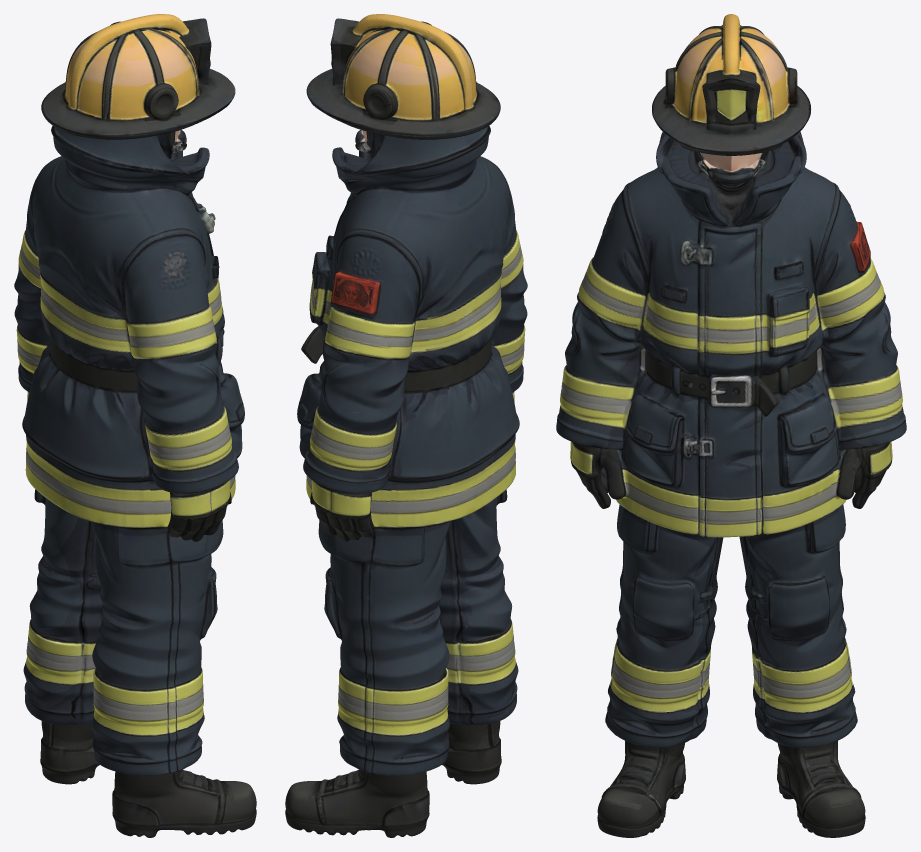
The model's file is firefighter+3d+model.glb.
The picture shows the model from 3 angles, left to right: view 1: azimuth 30°, elevation 25°; view 2: azimuth 150°, elevation 25°; view 3: azimuth 270°, elevation 25°; orthographic projection.
Visible parts, largest first — view 1: tripo_node_90aba189-baeb-4f53-9ea8-ca6c51652766; view 2: tripo_node_90aba189-baeb-4f53-9ea8-ca6c51652766; view 3: tripo_node_90aba189-baeb-4f53-9ea8-ca6c51652766.
Part boxes in pixels (left/top/right/bottom): tripo_node_90aba189-baeb-4f53-9ea8-ca6c51652766: left=14, top=14, right=256, bottom=837; tripo_node_90aba189-baeb-4f53-9ea8-ca6c51652766: left=285, top=14, right=527, bottom=837; tripo_node_90aba189-baeb-4f53-9ea8-ca6c51652766: left=556, top=14, right=906, bottom=837.
Size of the model in its own units: 0.2457 by 1 by 0.4071.
Materials: 1 (1 with a texture image).
